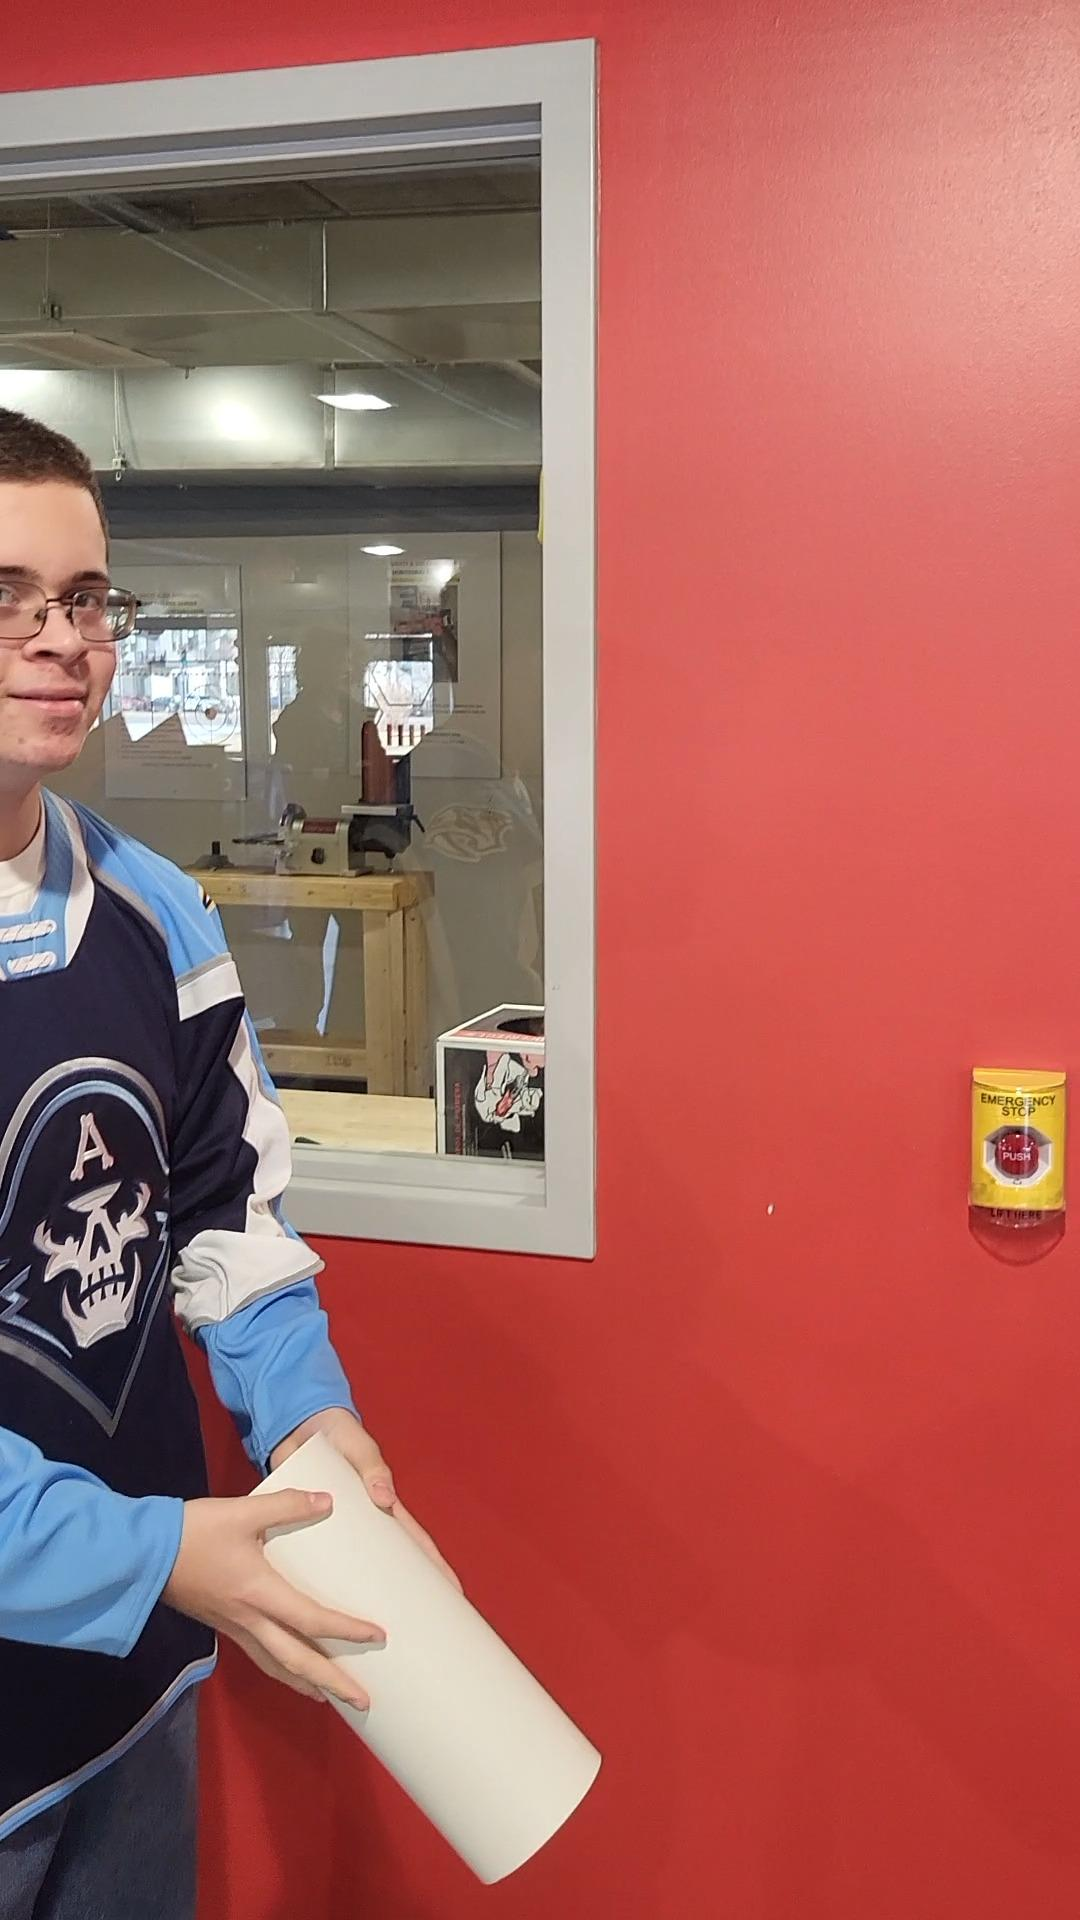coral: (236, 1436, 607, 1882)
